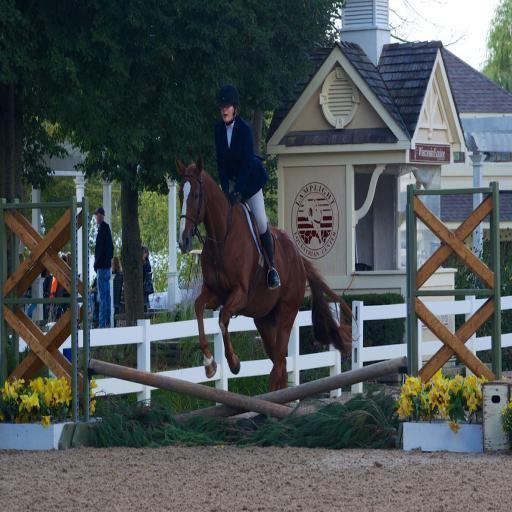horse: (177, 156, 363, 416)
